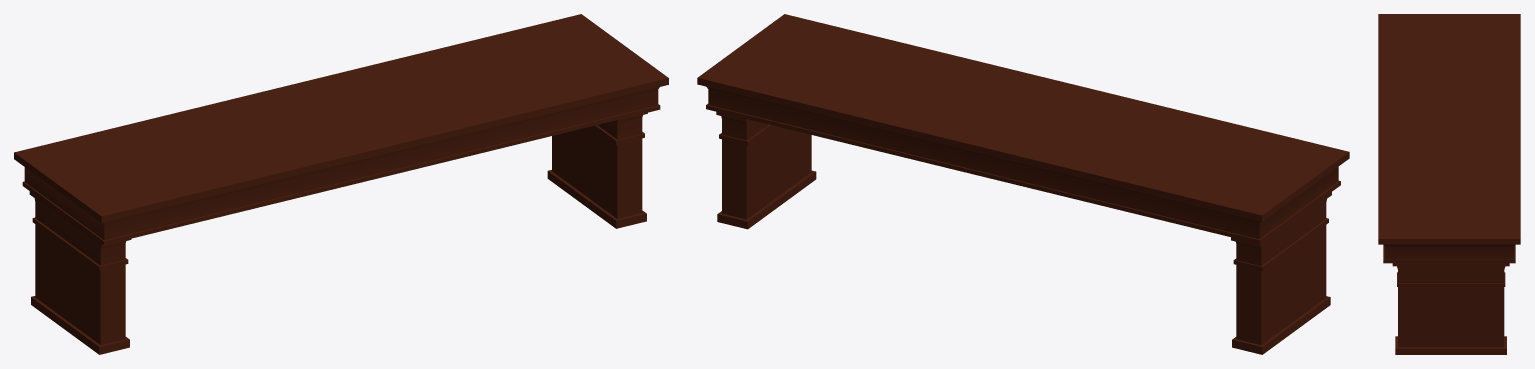
The model's file is library_table.obj.
The picture shows the model from 3 angles, left to right: view 1: azimuth 30°, elevation 25°; view 2: azimuth 150°, elevation 25°; view 3: azimuth 270°, elevation 25°; orthographic projection. The views are drawn at different scales.
Visible parts, largest first — view 1: polySurface1294; view 2: polySurface1294; view 3: polySurface1294.
Boxes of the visible parts, x1=… form: polySurface1294: x1=14, y1=14, x2=668, y2=354; polySurface1294: x1=697, y1=14, x2=1349, y2=354; polySurface1294: x1=1378, y1=14, x2=1520, y2=354.
Bounding box in the file's own units: 3.02 × 0.7554 × 0.8083.
